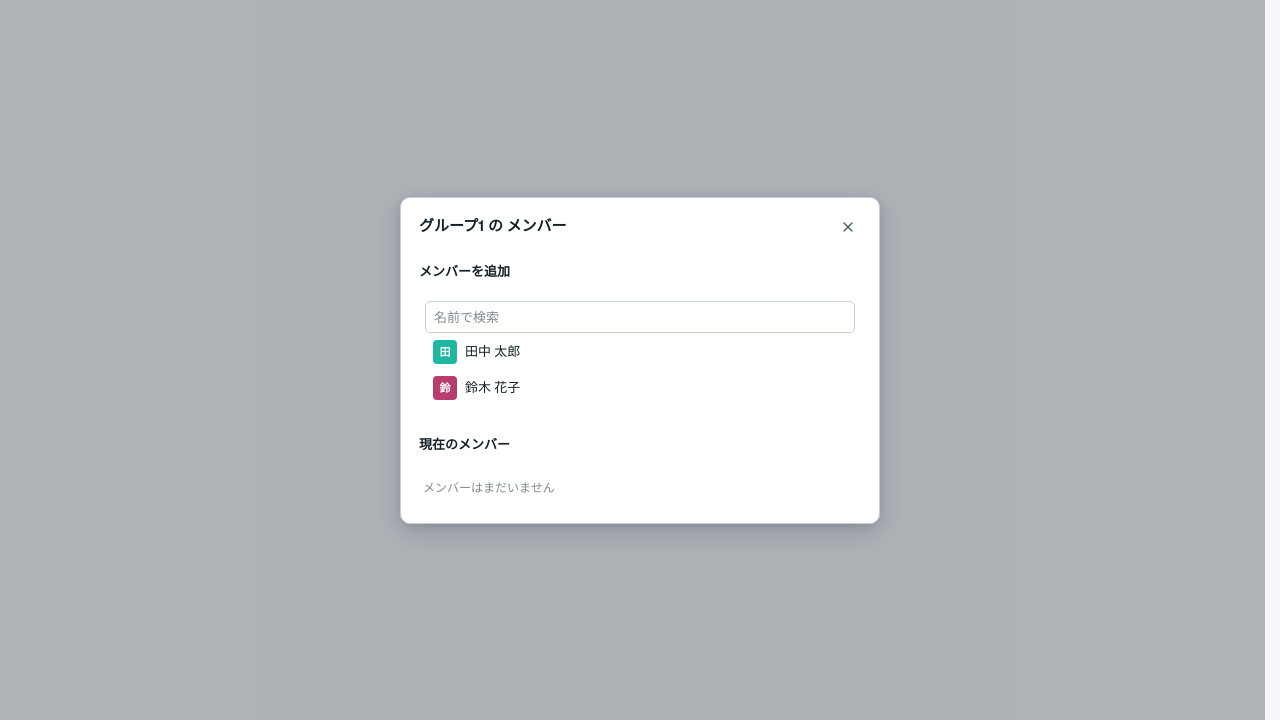
Test case: DeskMembershipScopeModal（dsk-0309・共通メンバー管理モーダル） › 追加失敗時、inline エラーと toast.error の両方を出すこと
Step 1. Click the text "鈴木 花子" → [493, 388], box [465,379,520,396]
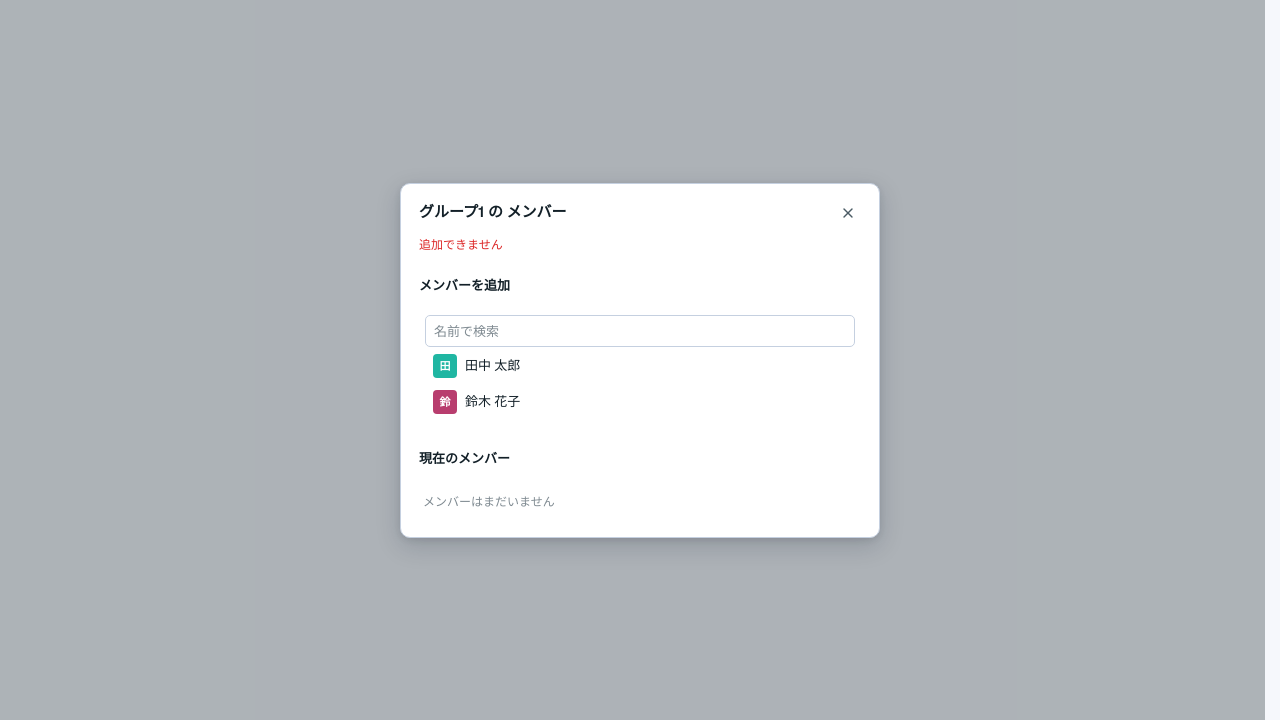
Expected: the message reads "追加できません", [419,236,503,252]
